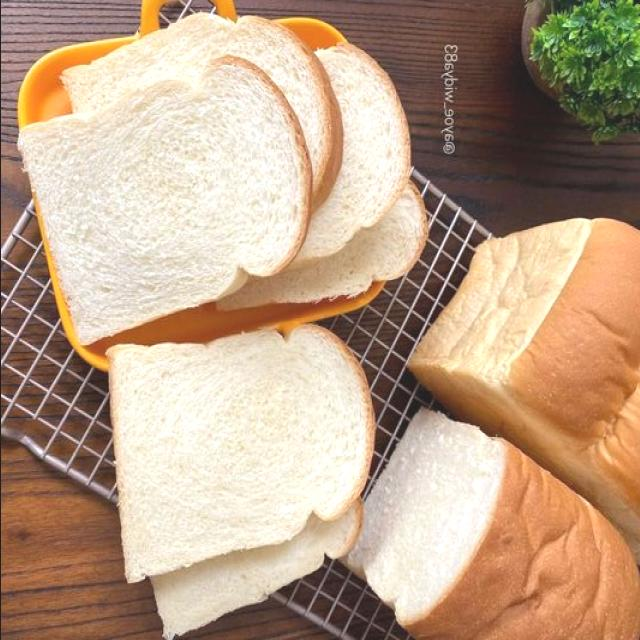roti tawar: (16, 65, 310, 346), (103, 325, 373, 582)
